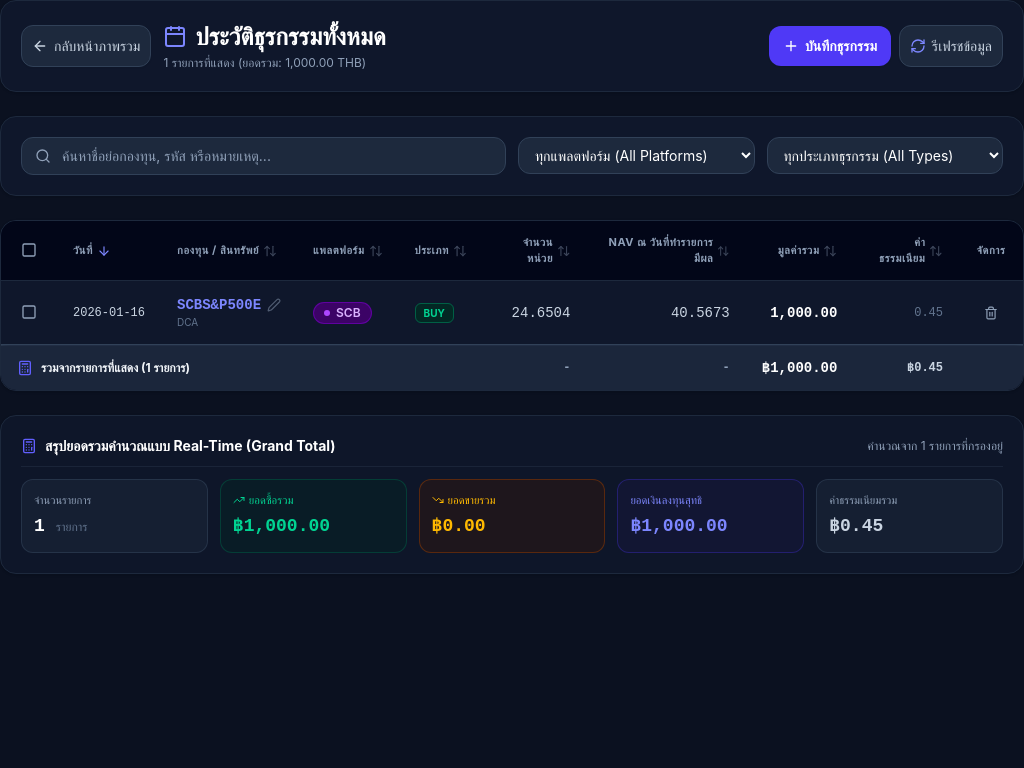
Test: TransactionHistoryPage Reactive Updates and Confirmation Actions › opens styled confirmation modal before deleting a single transaction
Later steps or results of the test are not shown.
Expected: the text "SCBS&P500E" is shown, [177,295,261,315]
# Click trash button on row
Click the button named "ลบ". click: (991, 312)
box: [978,300,1004,326]
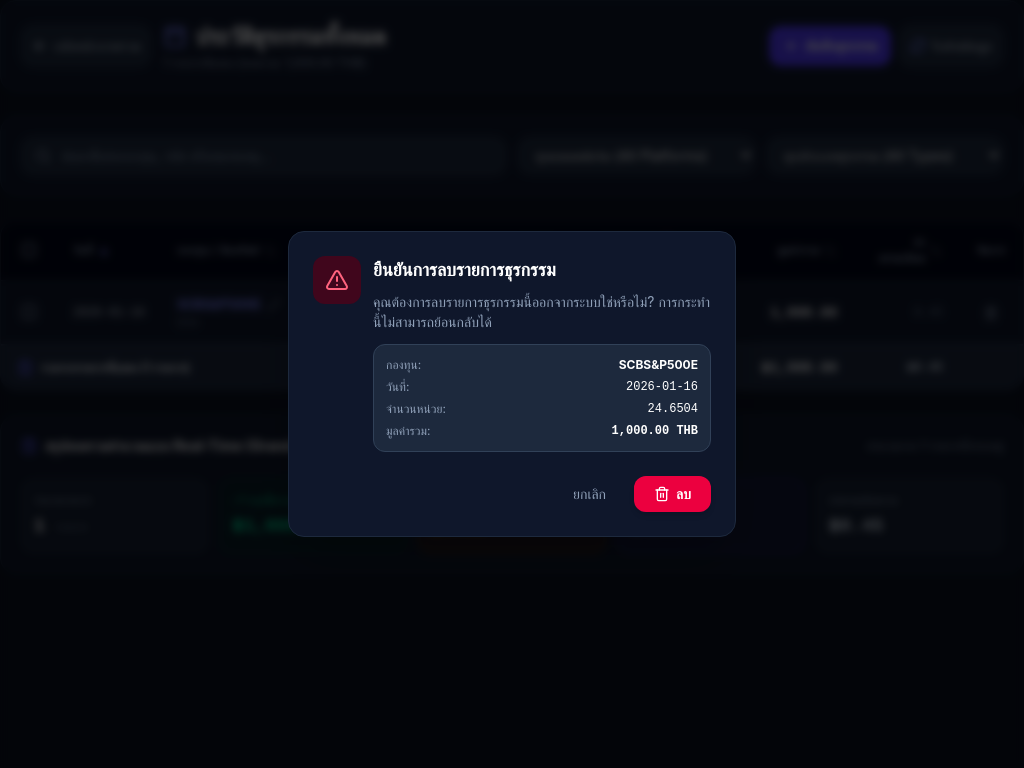
Expected: the heading "ยืนยันการลบรายการธุรกรรม" is shown, [373,259,556,280]
Expected: the text "คุณต้องการลบรายการธุรกรรมนี้ออกจากระบบใช่หรือไม่" is shown, [373,293,710,330]
